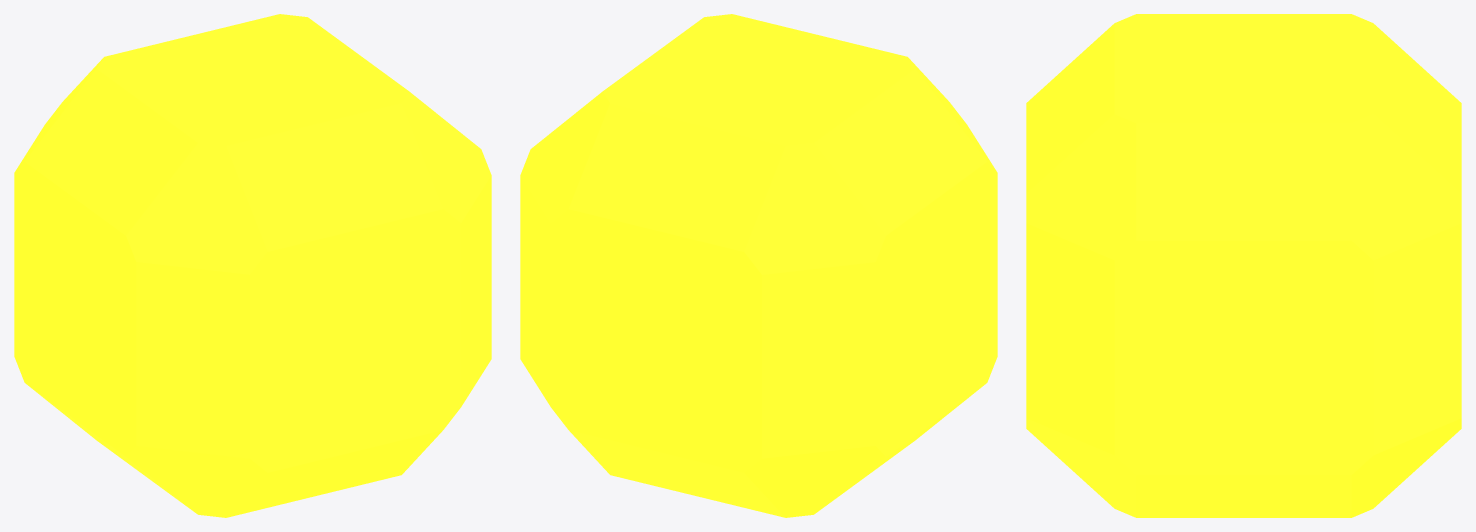
Rendered from model_3glow_orb.glb.
The picture shows the model from 3 angles, left to right: view 1: azimuth 30°, elevation 25°; view 2: azimuth 150°, elevation 25°; view 3: azimuth 270°, elevation 25°; orthographic projection. The views are drawn at different scales.
Visible parts, largest first — view 1: Cube_0; view 2: Cube_0; view 3: Cube_0.
Part boxes in pixels (x1,y1,x2,y2): Cube_0: (14, 14, 491, 517); Cube_0: (520, 14, 997, 517); Cube_0: (1026, 14, 1461, 517).
Bounding box in the file's own units: 0.4194 × 0.4194 × 0.4194.
